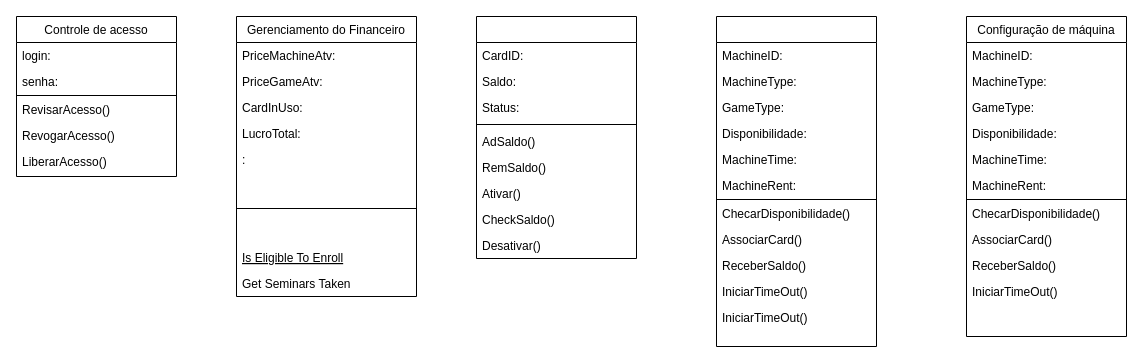
Image size: 1143x363. Some labels were removed from this diagram. The box of each missing label's shape, as (x1, y1, x2, y2) in pixels:
Cadastro da máquina: (716, 16, 876, 346)
Cadastro do cartão: (476, 16, 636, 258)
